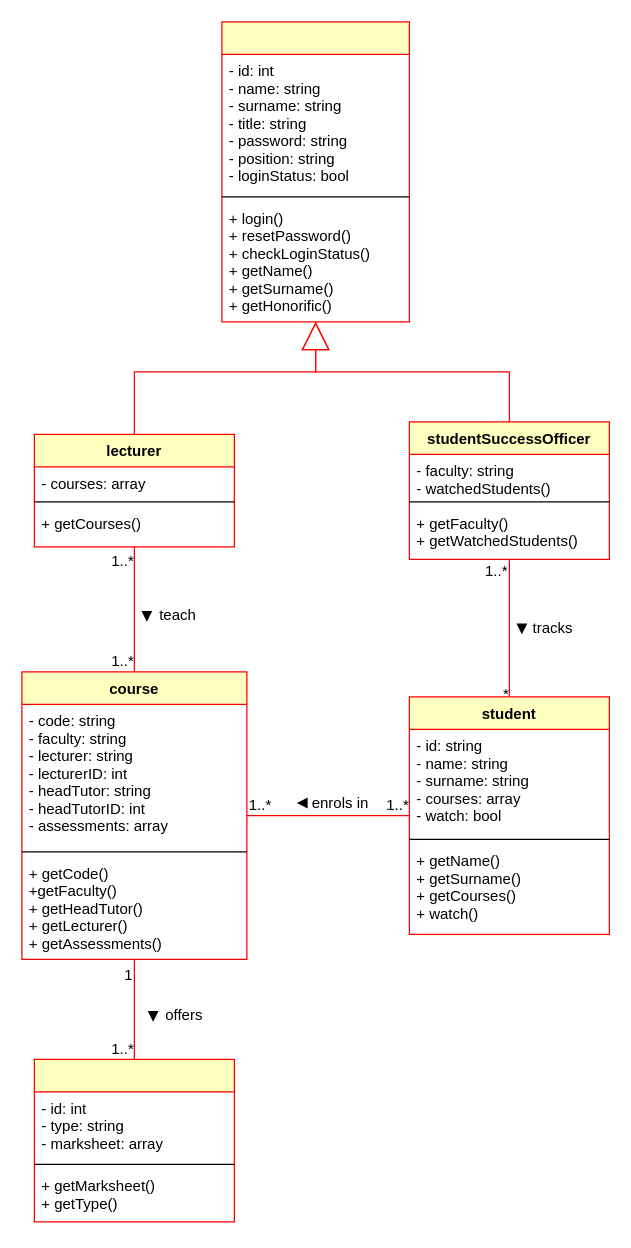
Some shapes in this 631 by 1248 pixel diagram are drawn without their labels. Here are the shapes that lost their labels. From the top down, the box of each, then its label:
(221, 21, 409, 322): user
(33, 1058, 234, 1222): assessment
